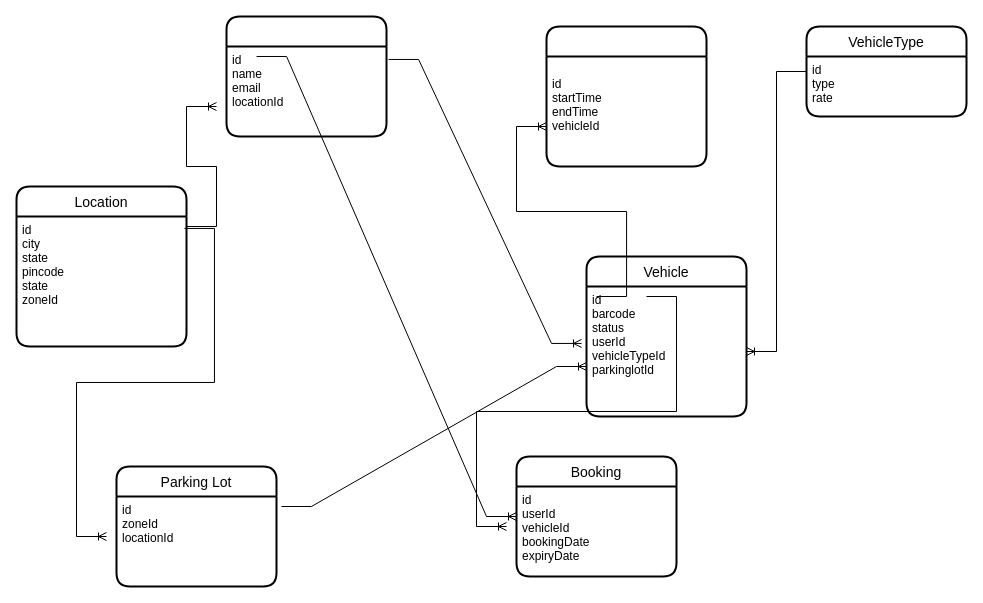
The diagram is 983 pixels wide and 603 high, and some of its shapes have lost their labels. Here are the shapes that lost their labels. From the top down, the box of each, then its label:
(225, 15, 387, 137): User
(545, 25, 707, 167): VehicleInventory
